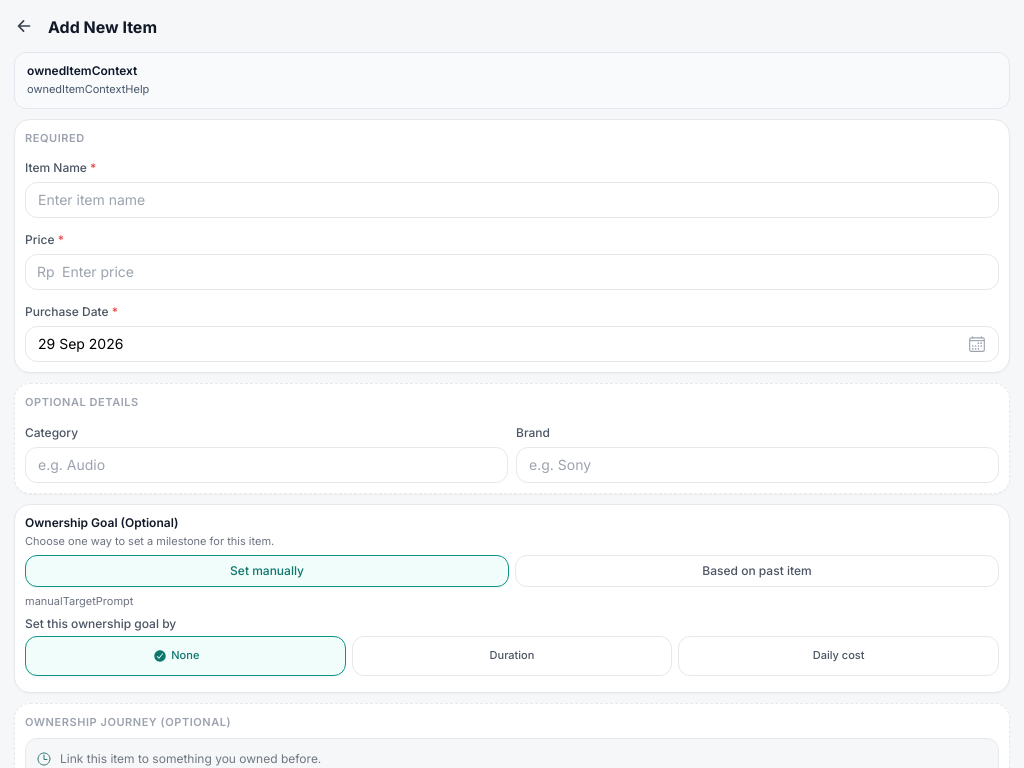
Test: AddItem component date localization › validates required name and price on submit without clearing user input
This screenshot has width=1024, height=768.
Type "Keep this draft" into the field with placeholder "Enter item name" at (512, 200), box top-left (25, 182), bottom-right (999, 218)
(page scrolled)
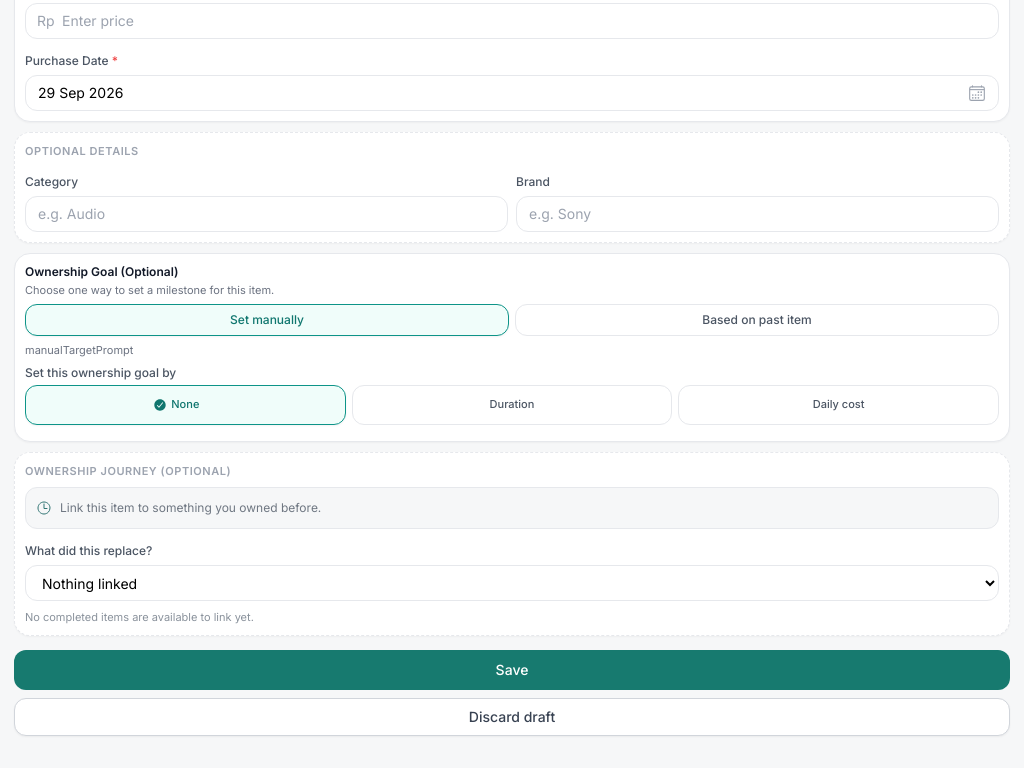
Click the button "Save" at (512, 670), box top-left (14, 650), bottom-right (1010, 690)
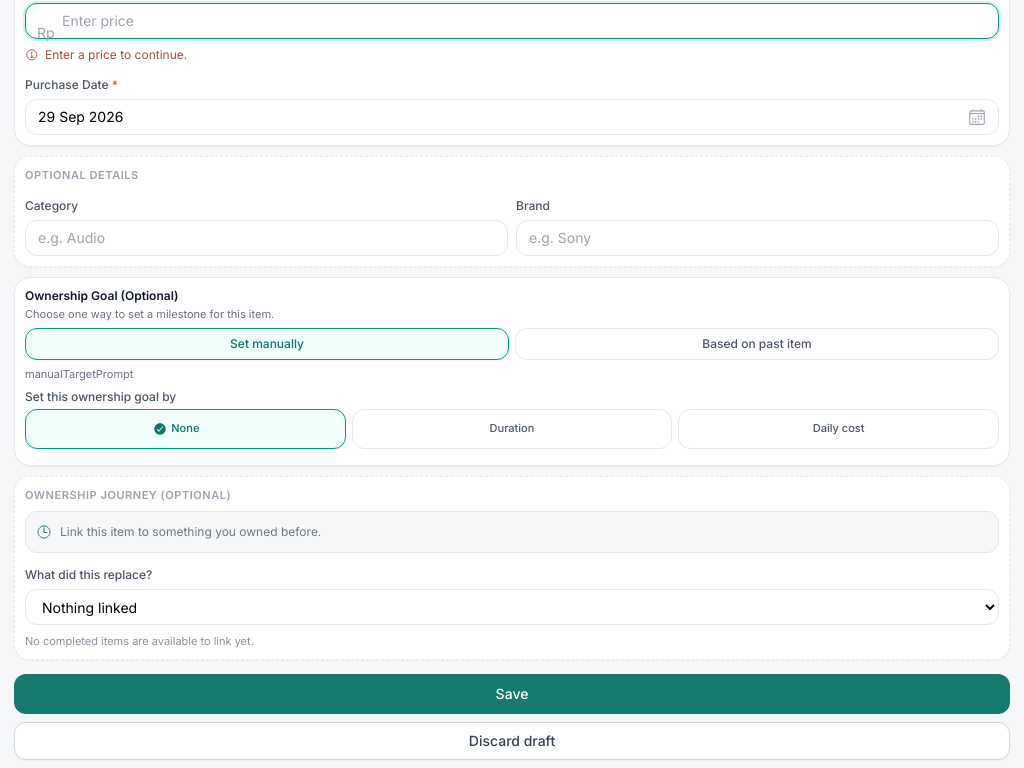
Result: the text "Enter a price to continue." is shown at top-left (45, 47), bottom-right (187, 63)
